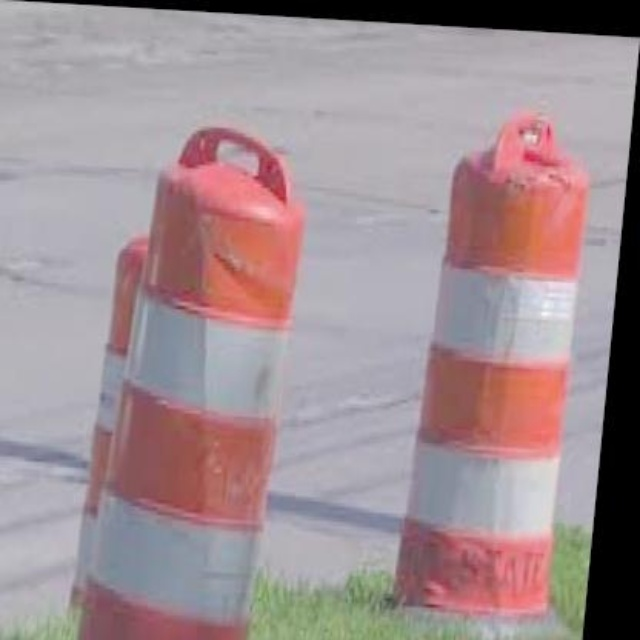obstacle: (88, 79, 323, 640), (409, 112, 594, 626)
